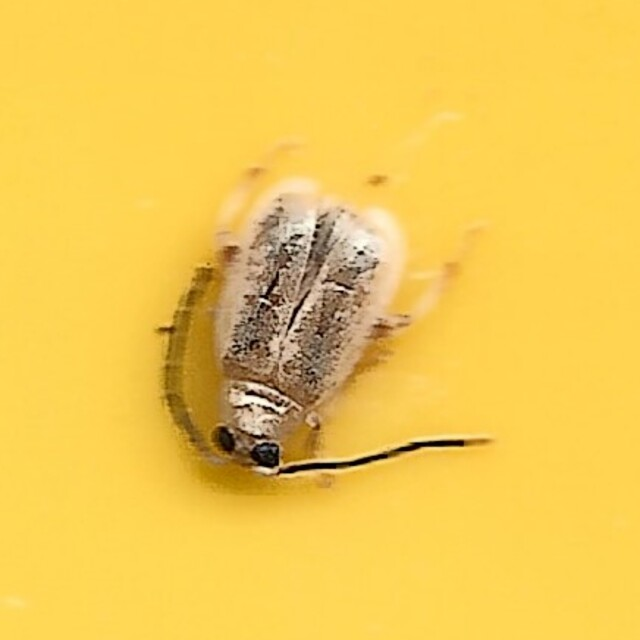Coleoptera: (147, 147, 493, 493)
